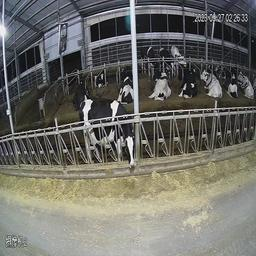cow: (80, 97, 142, 182), (176, 65, 206, 107), (69, 76, 93, 112), (200, 64, 221, 101), (151, 71, 175, 103), (116, 61, 133, 105), (222, 65, 241, 101), (238, 67, 254, 103), (88, 63, 108, 91), (158, 41, 175, 72)
